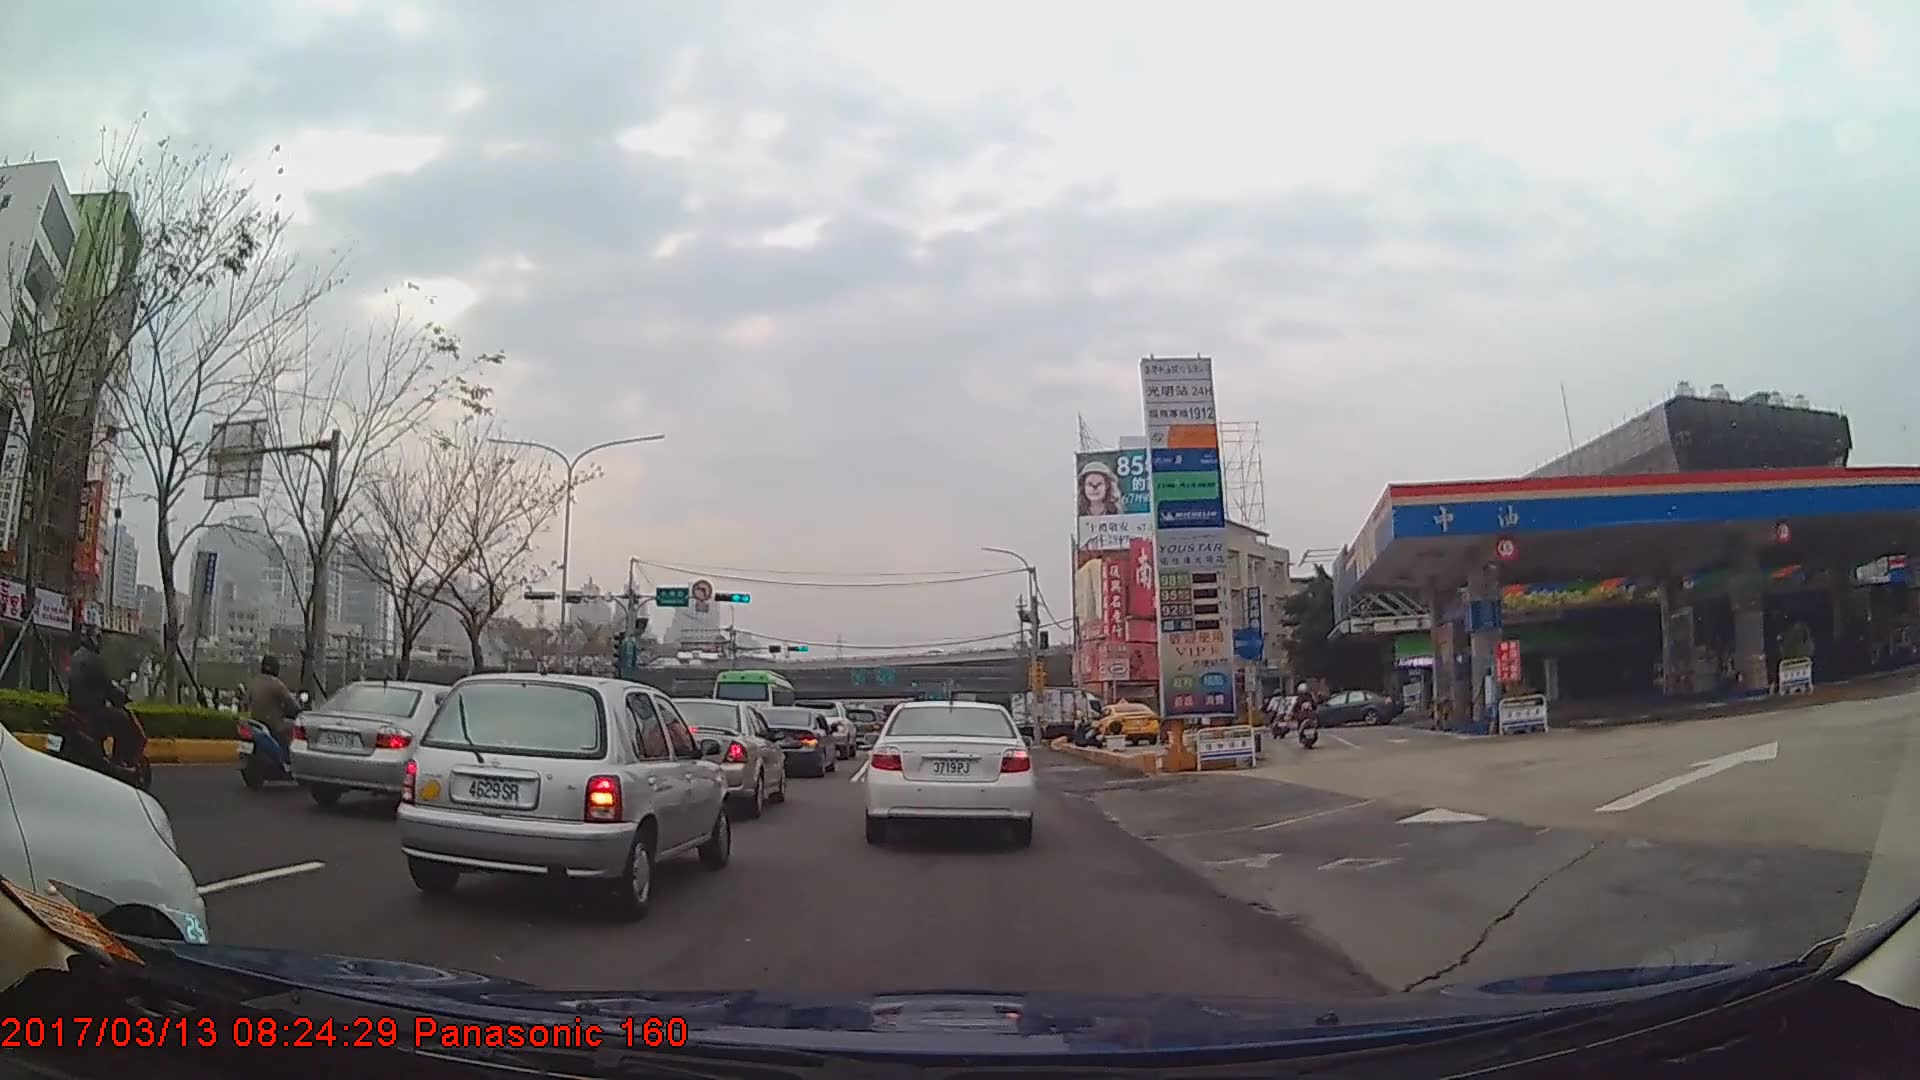rider: (49, 621, 146, 775), (234, 655, 314, 798), (1291, 686, 1320, 752), (1268, 689, 1291, 742)
vehicle: (396, 669, 730, 917), (286, 675, 518, 813), (864, 695, 1036, 846), (636, 696, 786, 816), (748, 704, 837, 777), (710, 668, 799, 737), (1005, 684, 1102, 743), (1301, 688, 1401, 728), (1090, 700, 1157, 746)
